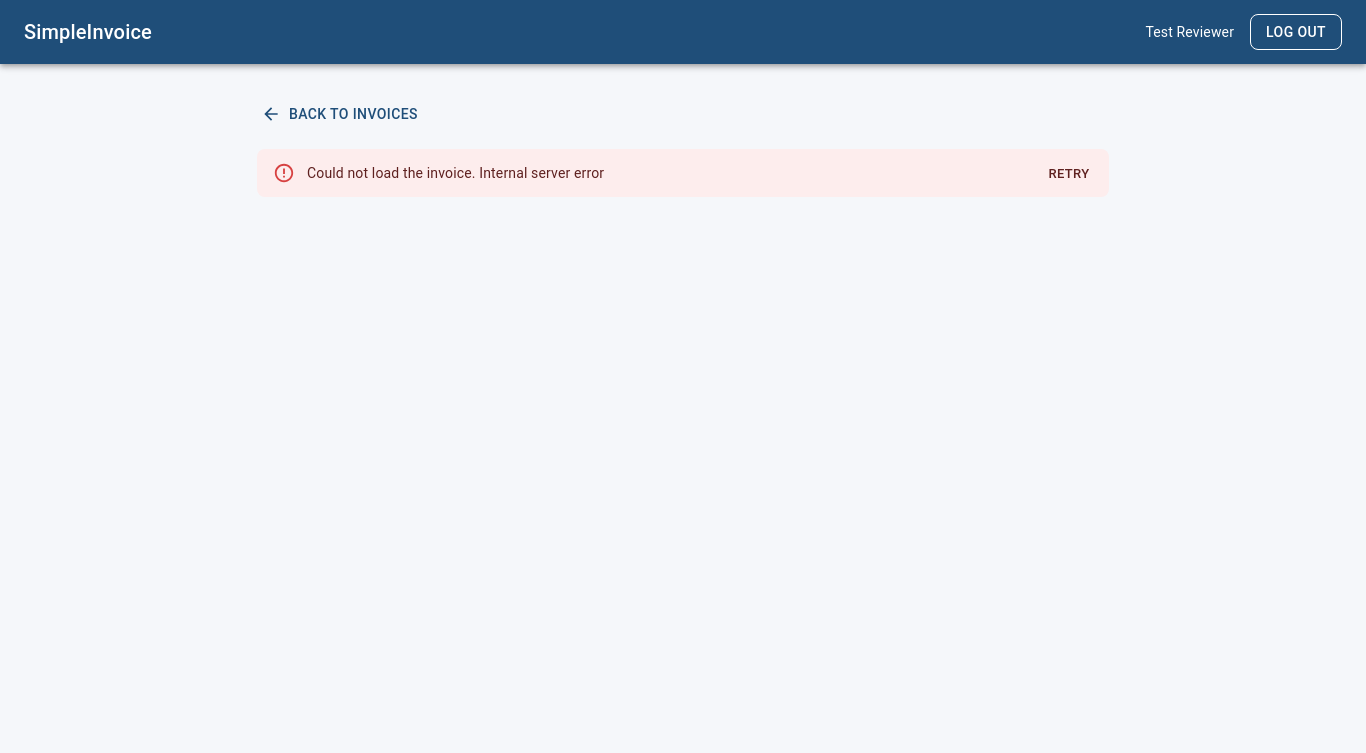
Test case: InvoiceDetailPage › when the invoice cannot be shown › shows the error and retries on request
This screenshot has width=1366, height=753.
Expected: the message shows "Could not load the invoice. Internal server error", [257,148,1109,196]
Click the button "Retry". click: point(1069, 174)
box: [1037,158,1101,189]
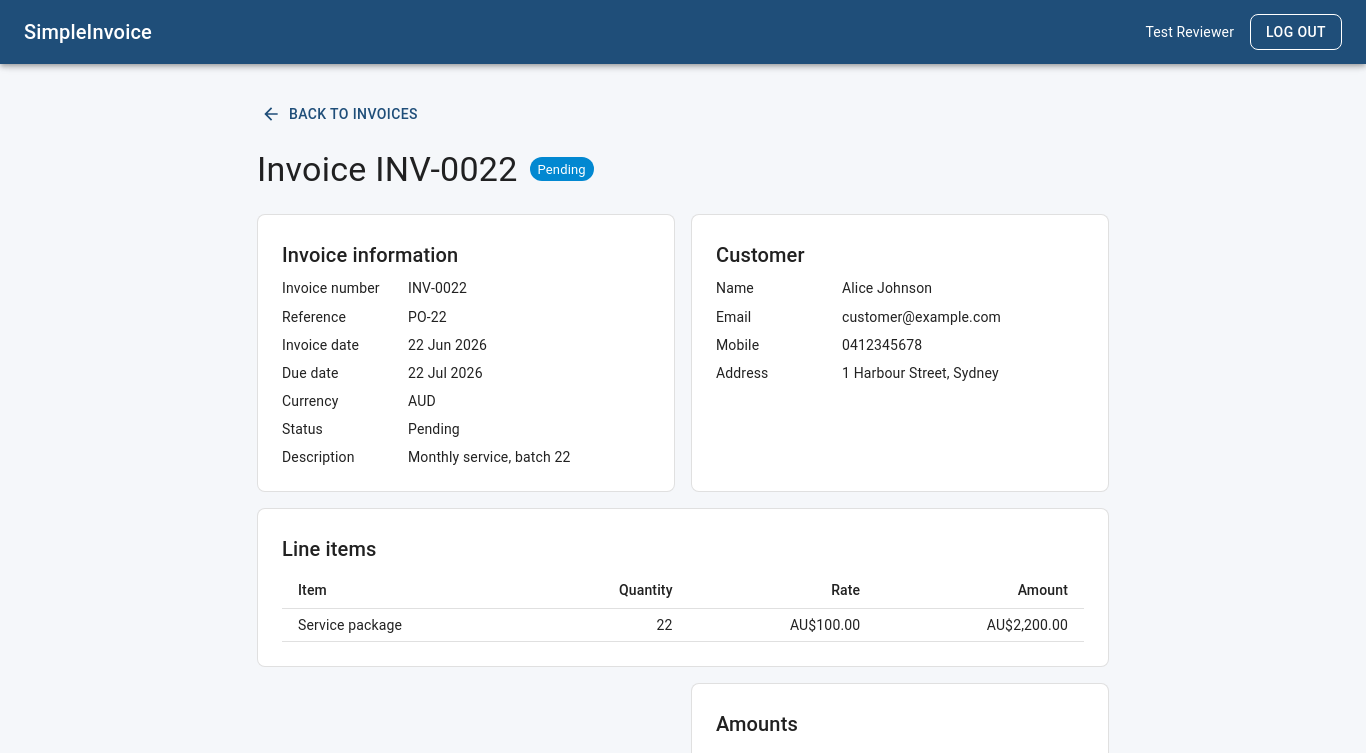
Result: the heading "Invoice INV-0022" is shown at [257,148,518,190]
Result: the message "Could not load the invoice. Internal server error Retry" is gone
